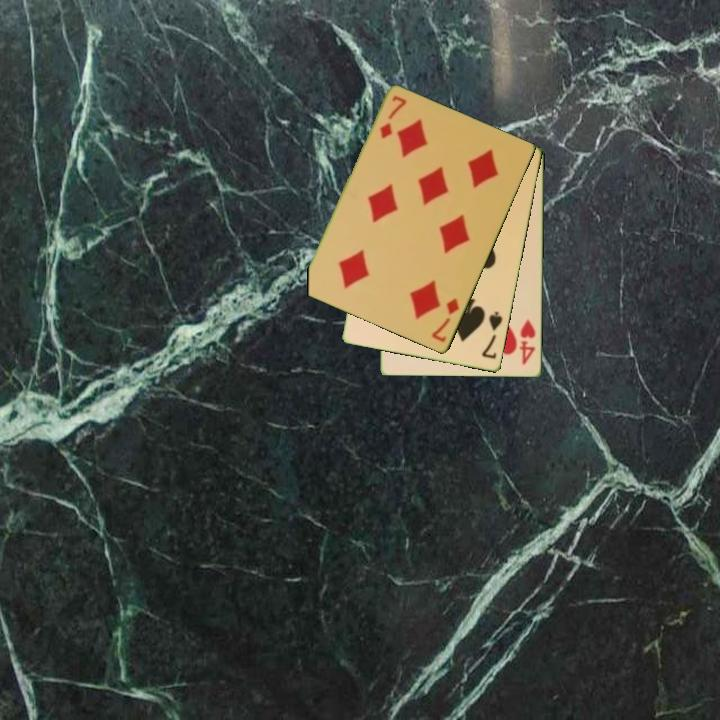4h: (516, 316, 539, 368)
7d: (428, 295, 462, 345), (376, 92, 409, 142)
7s: (479, 308, 506, 362)
